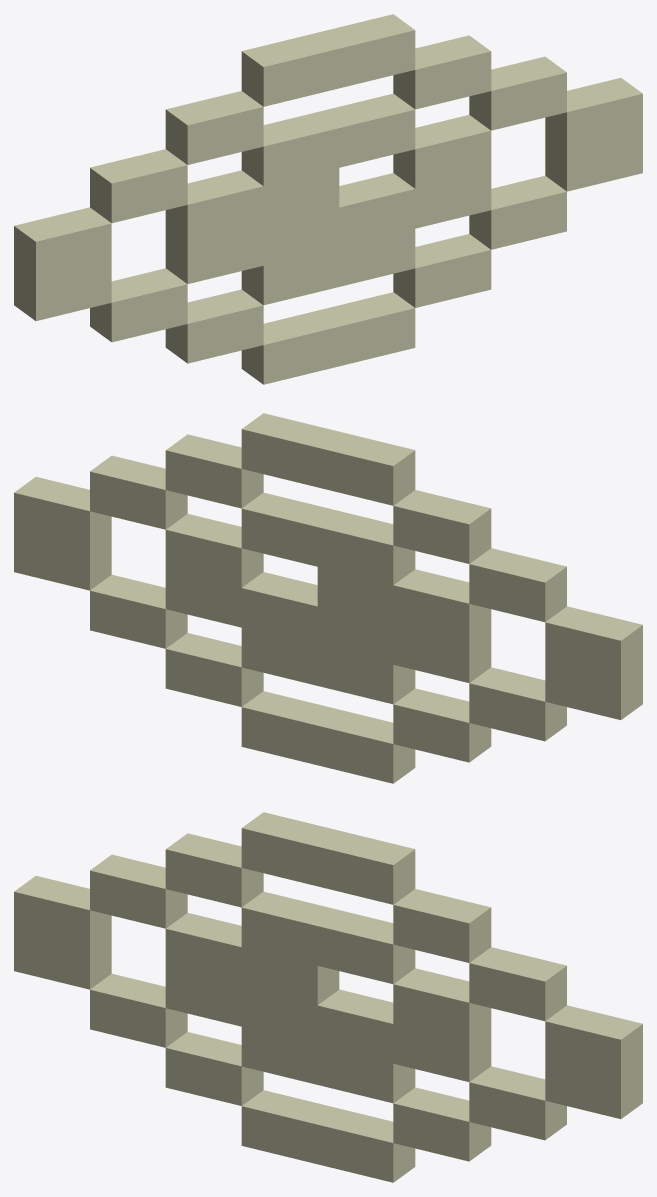
The model's file is Eyes-Tan.vox.obj.
3 renders of one model, top to bottom at view 1: azimuth 30°, elevation 25°; view 2: azimuth 150°, elevation 25°; view 3: azimuth 330°, elevation 25°, orthographic.
Size of the model in its own units: 1.6 by 0.8 by 0.1.
1 material, 1 textured.
